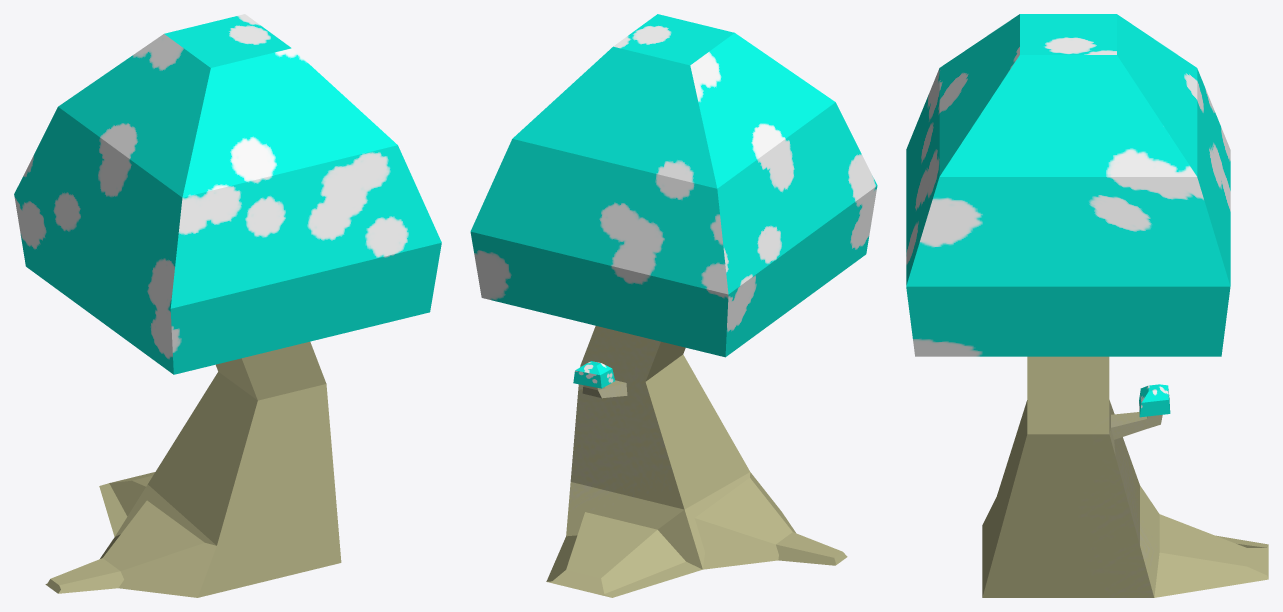
File: mushroomtree.fbx
3 renders of one model, left to right at view 1: azimuth 30°, elevation 25°; view 2: azimuth 150°, elevation 25°; view 3: azimuth 270°, elevation 25°, orthographic. The views are drawn at different scales.
Visible parts, largest first — view 1: Cube; view 2: Cube; view 3: Cube.
Boxes of the visible parts, x1,y1,x2,y2 form: Cube: [14, 14, 441, 597]; Cube: [470, 14, 877, 597]; Cube: [906, 14, 1268, 597].
Size of the model in its own units: 527 by 822 by 513.
